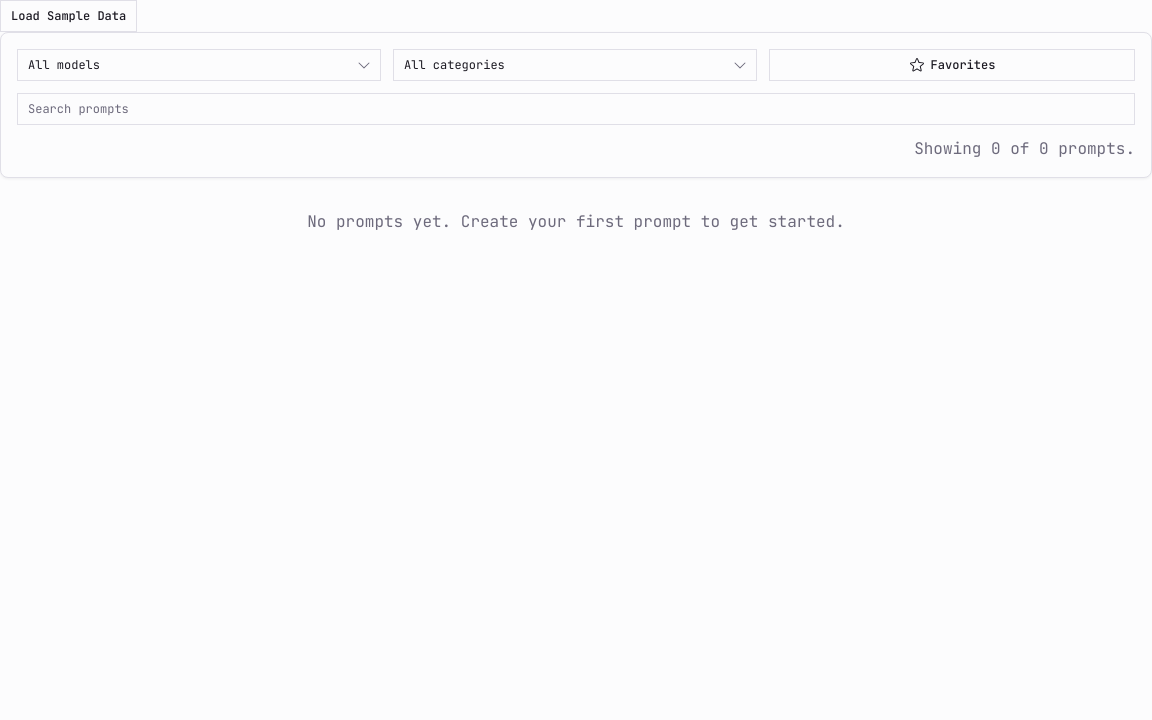
Test case: PromptsPage › populates the list when "Load Sample Data" is clicked
Check: the text "Showing 0 of 0 prompts." is shown, box left=914, top=137, right=1135, bottom=161
Step 1. Click the button "Load Sample Data" → (69,16), box left=0, top=0, right=137, bottom=32
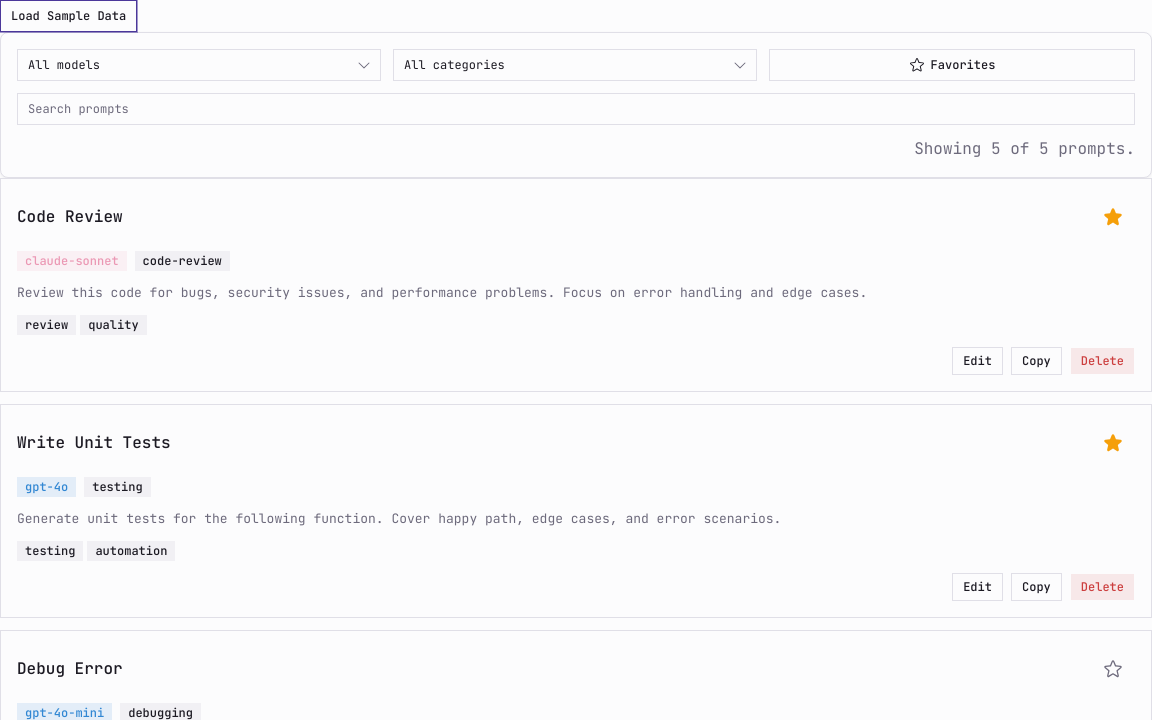
Check: the text "Showing 5 of 5 prompts." is shown, box left=914, top=137, right=1135, bottom=161
Check: the link "Code Review" is shown, box left=17, top=206, right=123, bottom=227
